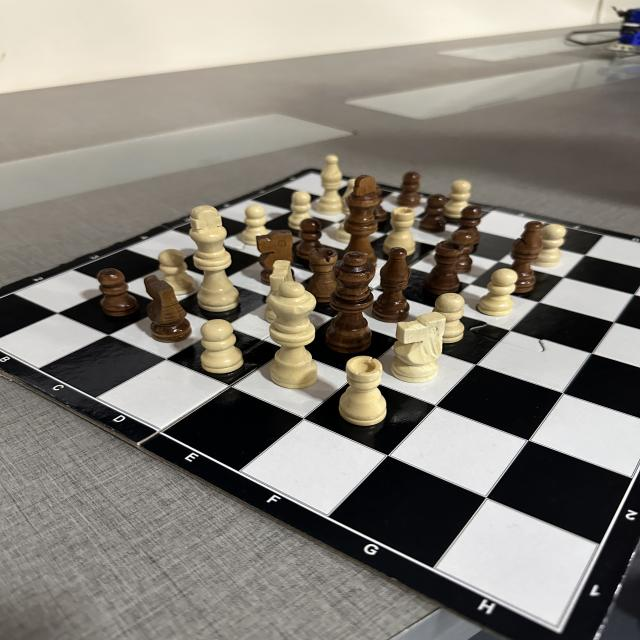Black-Bishop: (372, 247, 410, 322), (512, 221, 542, 293)
Black-King: (344, 174, 377, 267)
Black-Knight: (144, 275, 191, 344), (260, 229, 294, 285)
Black-Pawn: (98, 268, 139, 316), (419, 194, 446, 233), (297, 218, 323, 258), (456, 206, 482, 244), (396, 172, 421, 207), (456, 229, 475, 273), (369, 185, 387, 222)
Black-Queen: (325, 252, 376, 354)
Black-Rook: (423, 241, 462, 294), (309, 247, 338, 305)
White-Bishop: (316, 155, 343, 214), (336, 179, 360, 242)
White-King: (190, 204, 240, 312)
White-Knight: (394, 312, 446, 382), (265, 260, 297, 323)
White-Pawn: (200, 318, 243, 374), (478, 268, 518, 317), (159, 249, 195, 296), (530, 224, 566, 268), (434, 293, 464, 344), (241, 206, 267, 247), (444, 180, 471, 218), (288, 191, 312, 231)
White-Queen: (266, 282, 316, 389)
White-Rook: (338, 355, 388, 426), (382, 208, 416, 257)
